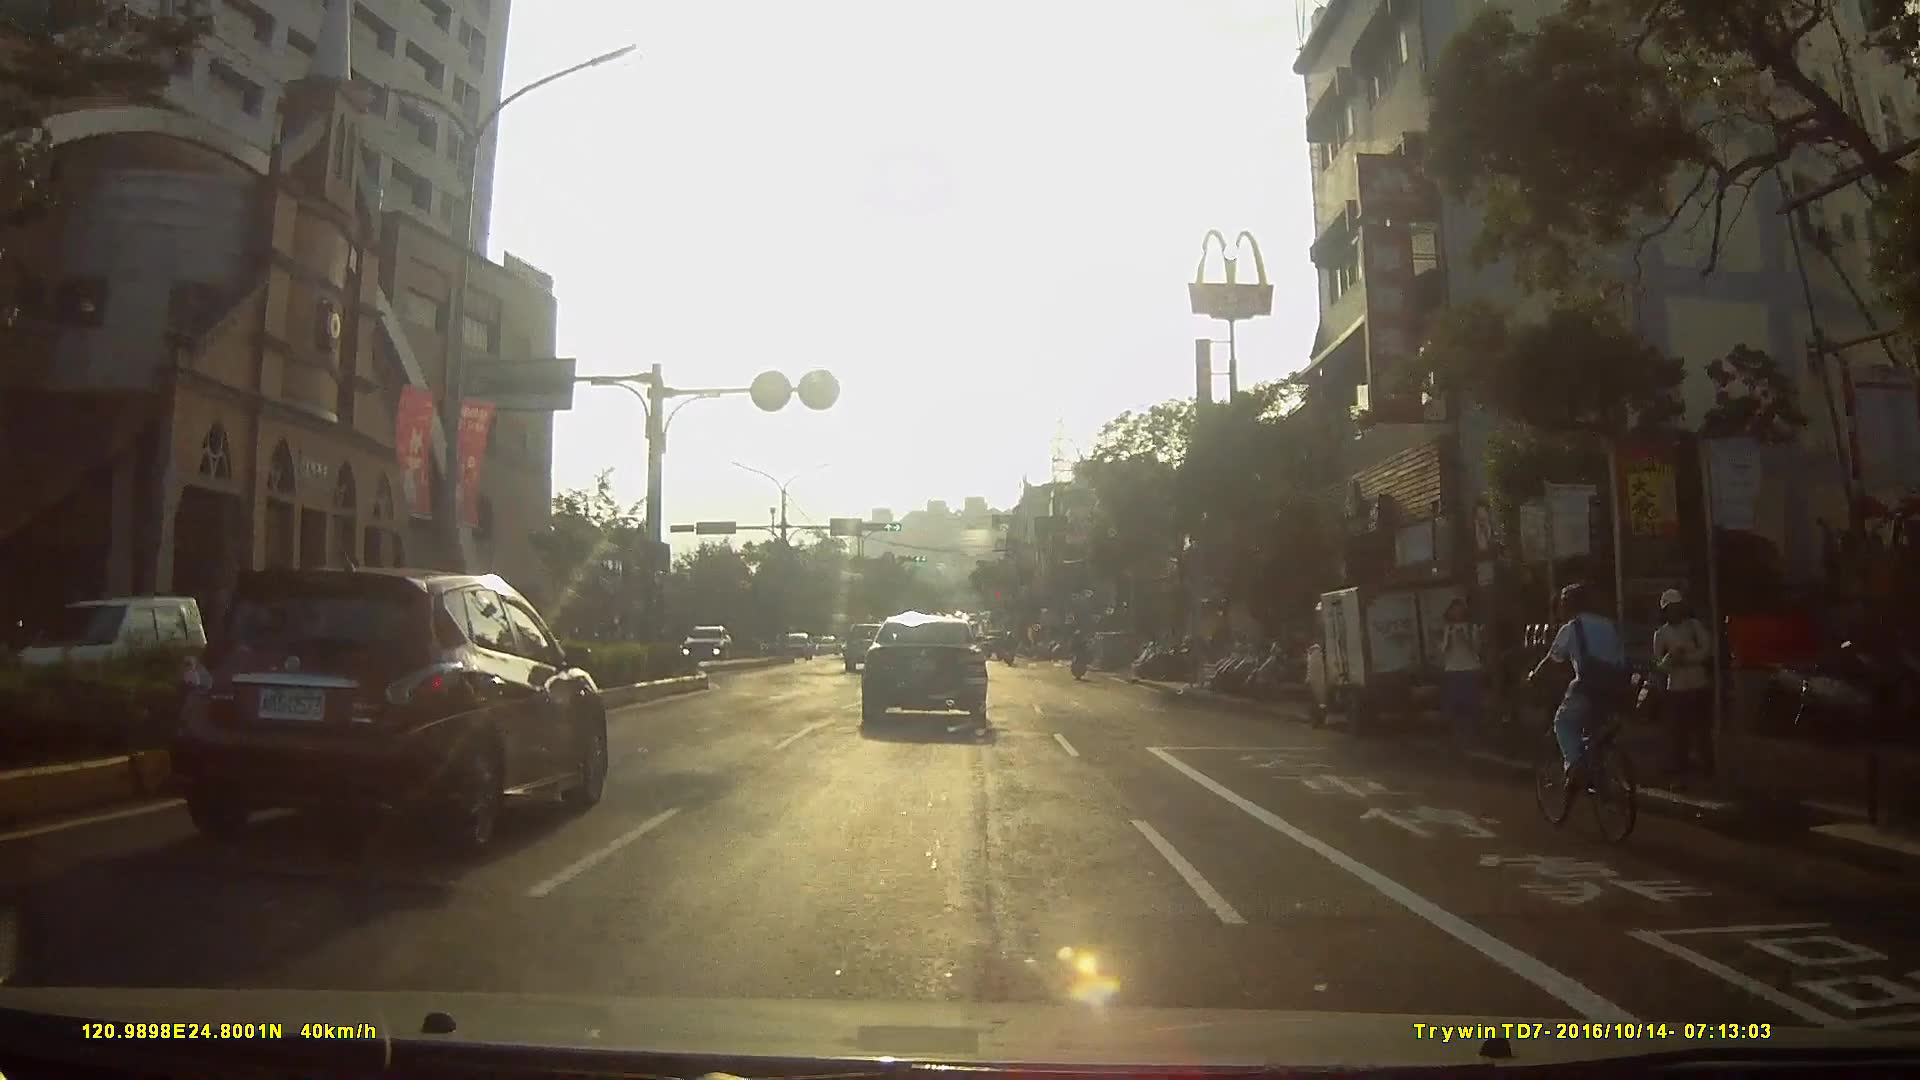pedestrian: (1652, 584, 1719, 791), (1437, 593, 1491, 759)
rider: (1518, 576, 1646, 849), (1068, 626, 1094, 685)
vehicle: (151, 562, 623, 854), (1289, 569, 1497, 749), (861, 611, 1005, 736), (839, 617, 898, 672), (673, 622, 734, 669), (768, 629, 806, 663)
